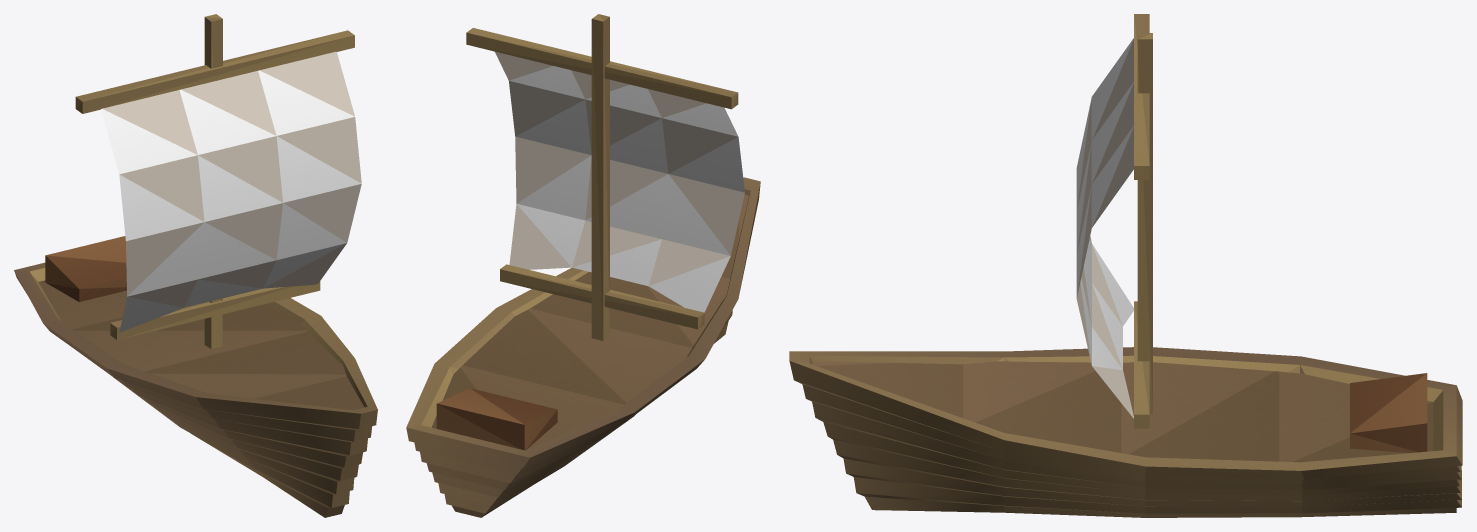
File: Boat.fbx
The picture shows the model from 3 angles, left to right: view 1: azimuth 30°, elevation 25°; view 2: azimuth 150°, elevation 25°; view 3: azimuth 270°, elevation 25°; orthographic projection. The views are drawn at different scales.
Visible parts, largest first — view 1: polySurface549; view 2: polySurface549; view 3: polySurface549.
Boxes of the visible parts, <box> form: polySurface549: <box>14,14,377,517</box>; polySurface549: <box>406,14,760,517</box>; polySurface549: <box>789,14,1462,517</box>.
Size of the model in its own units: 692 by 998 by 1297.
